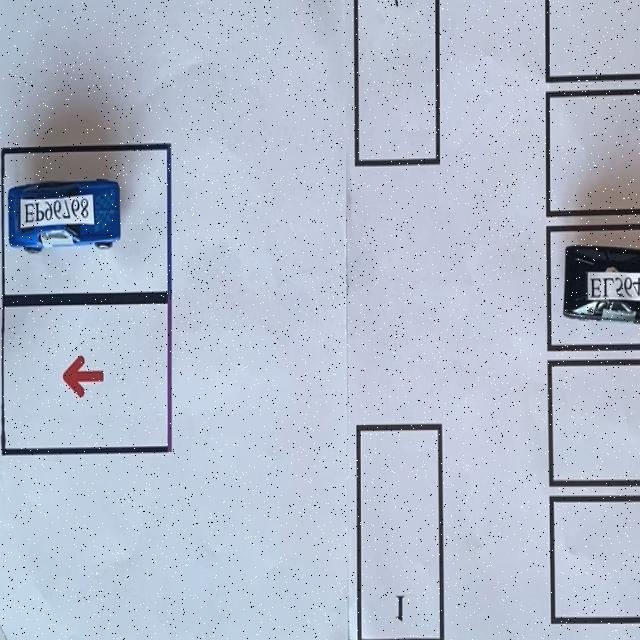car: (7, 172, 122, 260), (560, 238, 640, 328)
